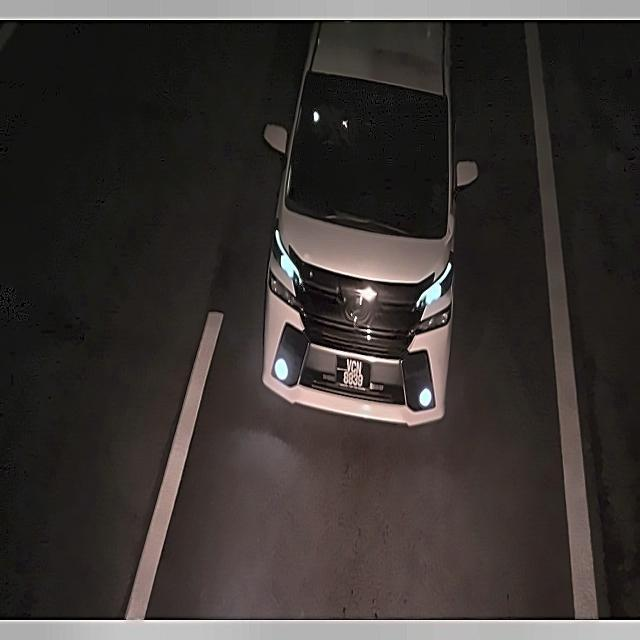car: (330, 348, 374, 398)
